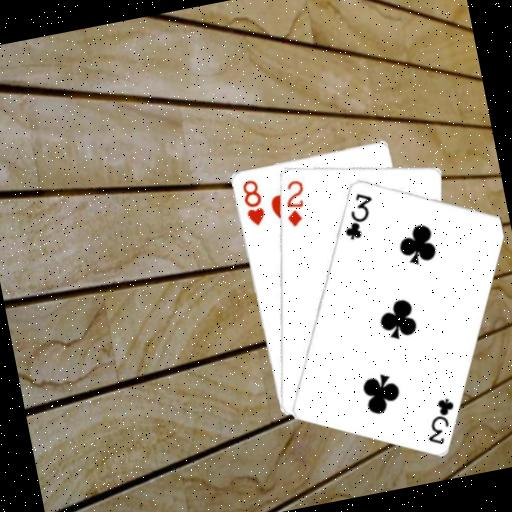2D: (277, 176, 312, 230)
3C: (335, 187, 381, 243), (418, 393, 463, 448)
8H: (236, 175, 268, 229)
